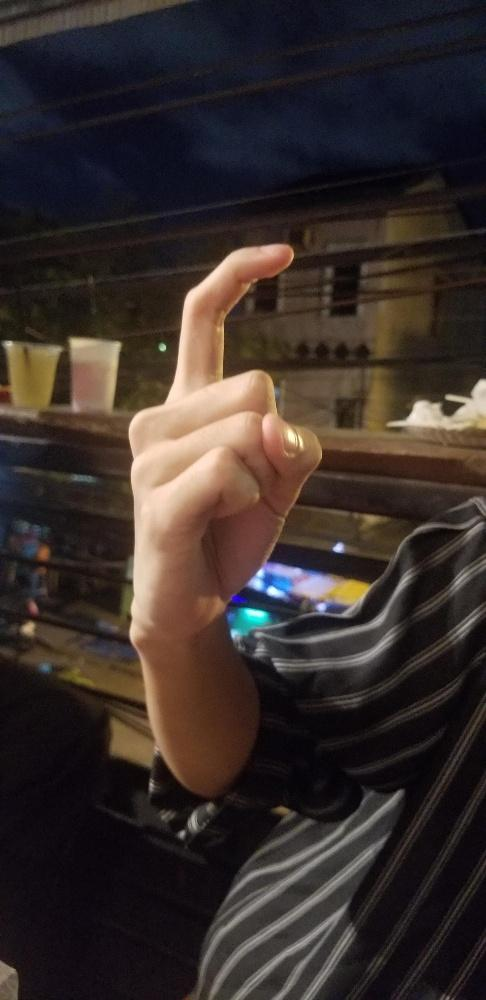x: (127, 236, 325, 652)
